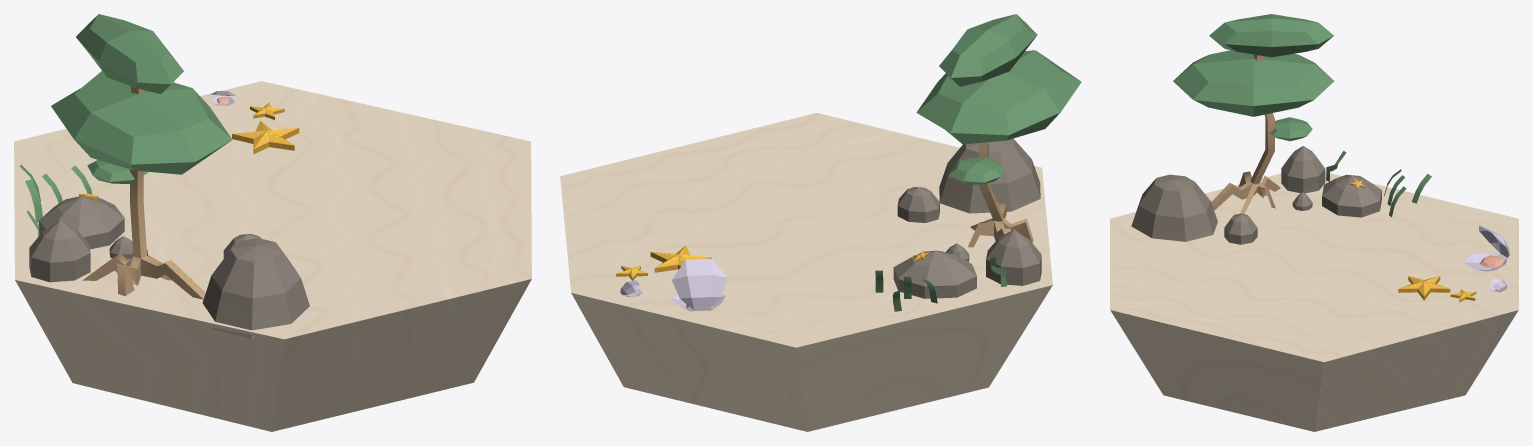
Rendered from Asset_BiomeBeach_sand.fbx.
3 views of the same model, side by side, from view 1: azimuth 30°, elevation 25°; view 2: azimuth 150°, elevation 25°; view 3: azimuth 270°, elevation 25° (orthographic). The views are drawn at different scales.
Parts seen in each view (by area): view 1: PolySurface_TilePlain_02, PolySurface_Tree, PolySurface_Rock_05, PolySurface_Rock_01, PolySurface_Rock_02, PolySurface_Star_02; view 2: PolySurface_TilePlain_02, PolySurface_Tree, PolySurface_Rock_05, PolySurface_Rock_02, STP_sea_shell, PolySurface_Rock_01, PolySurface_Rock_04, PolySurface_Star_02; view 3: PolySurface_TilePlain_02, PolySurface_Tree, PolySurface_Rock_05, PolySurface_Rock_02, PolySurface_Rock_01, STP_sea_shell, PolySurface_Rock_04, PolySurface_Star_02.
Boxes of the visible parts, left/top/right/bottom form: PolySurface_TilePlain_02: left=14, top=81, right=531, bottom=431; PolySurface_Tree: left=51, top=14, right=232, bottom=299; PolySurface_Rock_05: left=202, top=238, right=309, bottom=338; PolySurface_Rock_01: left=29, top=220, right=90, bottom=282; PolySurface_Rock_02: left=39, top=196, right=124, bottom=249; PolySurface_Star_02: left=232, top=120, right=299, bottom=154; PolySurface_TilePlain_02: left=560, top=113, right=1052, bottom=431; PolySurface_Tree: left=916, top=14, right=1081, bottom=247; PolySurface_Rock_05: left=939, top=138, right=1040, bottom=213; PolySurface_Rock_02: left=893, top=250, right=976, bottom=298; STP_sea_shell: left=670, top=258, right=727, bottom=311; PolySurface_Rock_01: left=986, top=229, right=1041, bottom=285; PolySurface_Rock_04: left=897, top=187, right=939, bottom=222; PolySurface_Star_02: left=650, top=245, right=711, bottom=272; PolySurface_TilePlain_02: left=1110, top=172, right=1518, bottom=431; PolySurface_Tree: left=1173, top=14, right=1334, bottom=213; PolySurface_Rock_05: left=1131, top=174, right=1217, bottom=241; PolySurface_Rock_02: left=1322, top=174, right=1381, bottom=217; PolySurface_Rock_01: left=1281, top=146, right=1325, bottom=193; STP_sea_shell: left=1463, top=225, right=1509, bottom=271; PolySurface_Rock_04: left=1224, top=213, right=1257, bottom=244; PolySurface_Star_02: left=1398, top=276, right=1450, bottom=300.
Size of the model in its own units: 427 by 282 by 378.
Materials: 1 (1 with a texture image).
